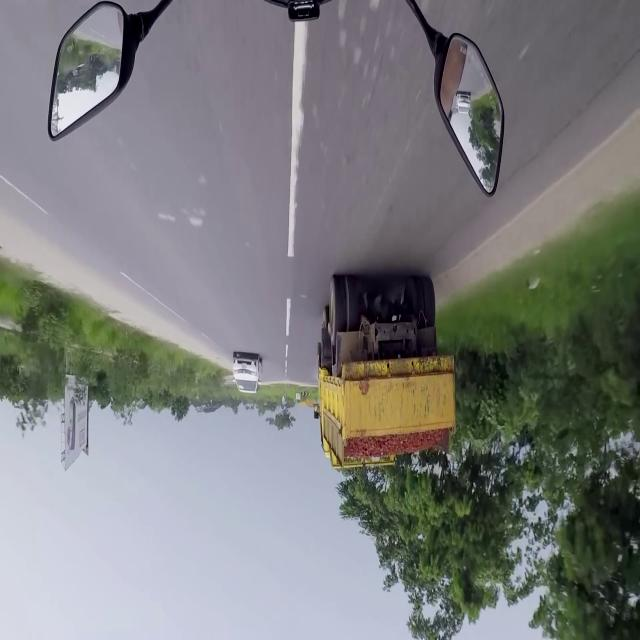white: (232, 353, 264, 395)
